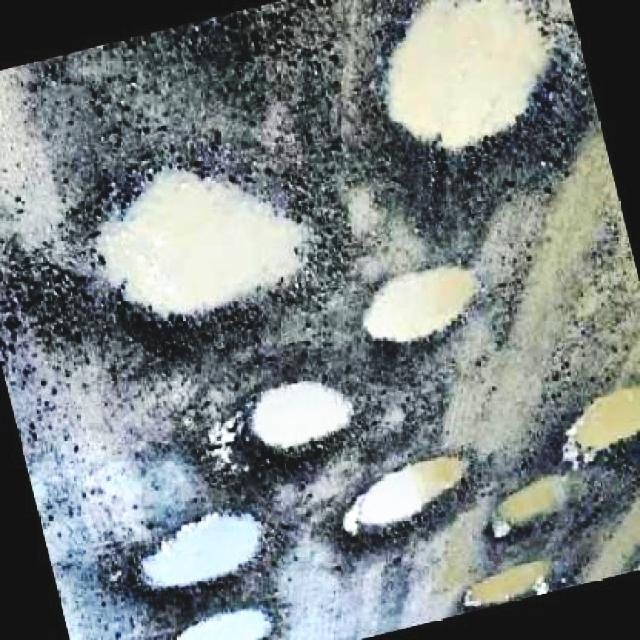pothole: (60, 140, 338, 355), (372, 2, 576, 166), (329, 442, 480, 544), (129, 503, 286, 599), (240, 364, 374, 458), (362, 255, 496, 348), (558, 375, 640, 480), (490, 463, 584, 543), (457, 554, 580, 615), (170, 601, 289, 640)
